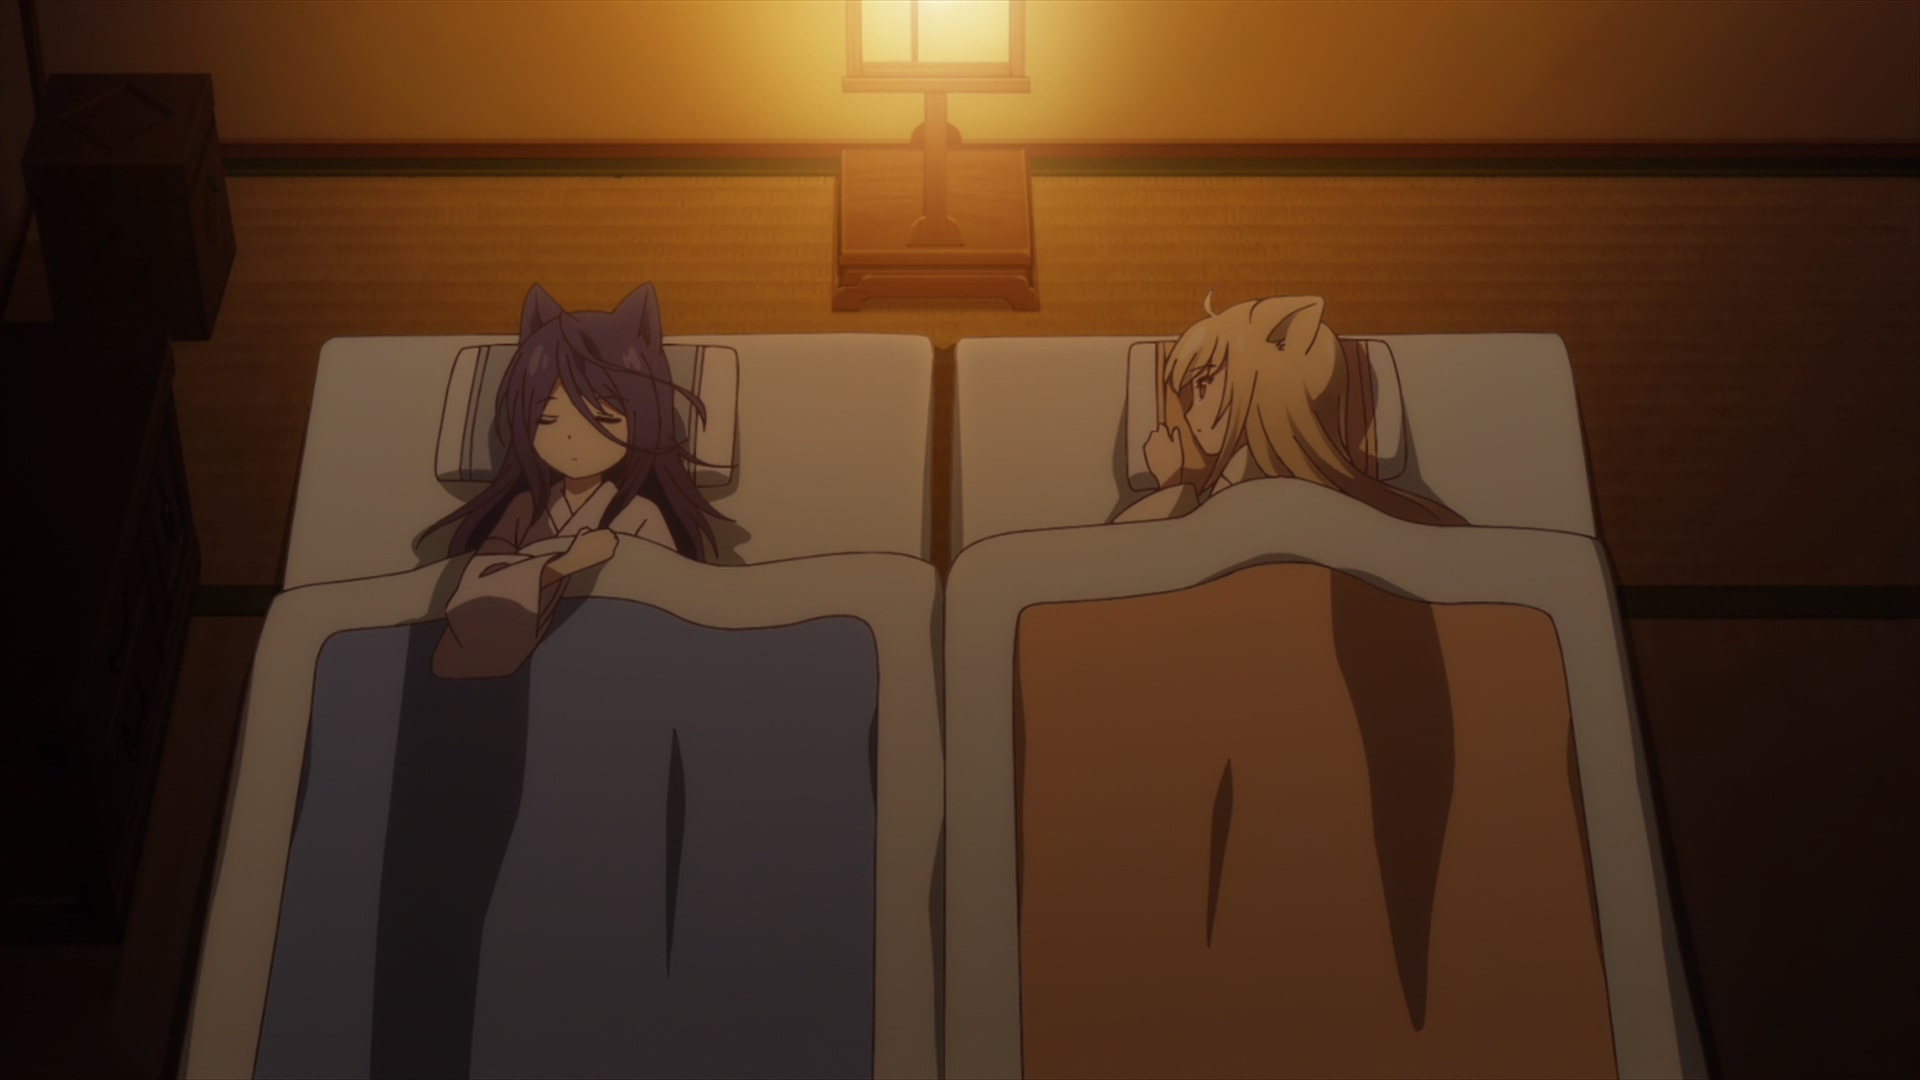柚: (1108, 290, 1460, 526)
皋: (415, 280, 741, 680)
